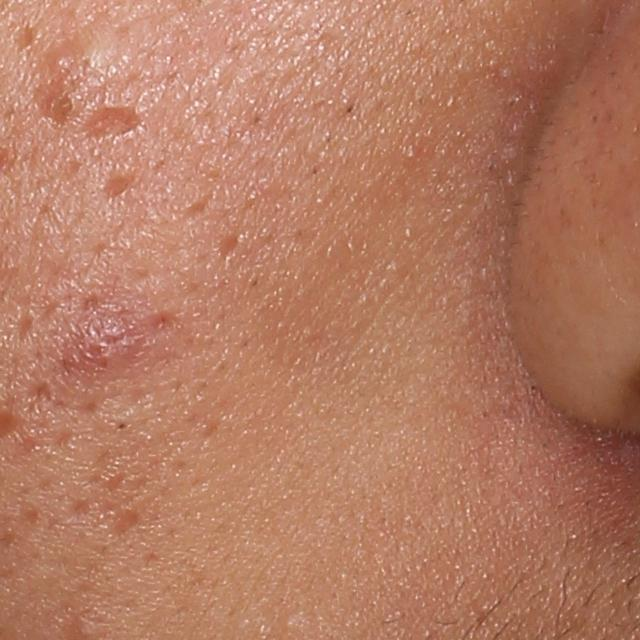atrophic_scar: (13, 155, 105, 331), (122, 202, 181, 288), (25, 80, 78, 134), (82, 104, 145, 148), (99, 386, 155, 428), (89, 497, 142, 536), (101, 171, 139, 199), (215, 231, 243, 264), (6, 23, 36, 52)
comedo: (282, 611, 303, 635)
